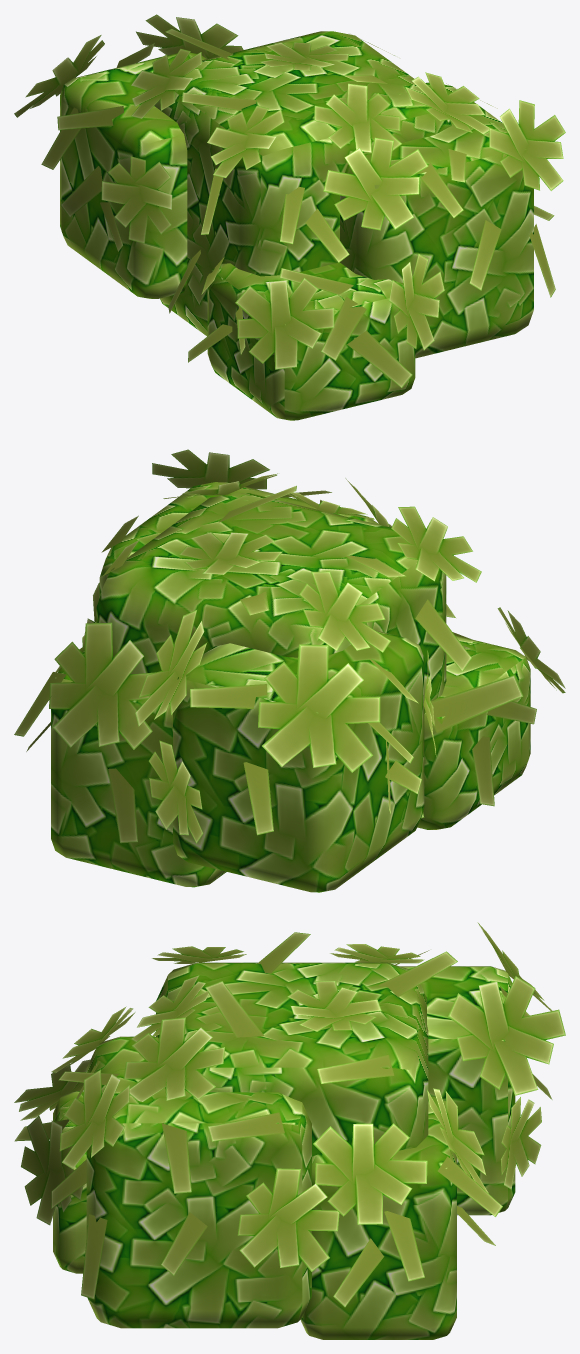
Rendered from SM_Bush_01_B.fbx.
3 renders of one model, top to bottom at view 1: azimuth 30°, elevation 25°; view 2: azimuth 150°, elevation 25°; view 3: azimuth 270°, elevation 25°, orthographic. The views are drawn at different scales.
Visible parts, largest first — view 1: polySurface625; view 2: polySurface625; view 3: polySurface625.
Part boxes in pixels (bbox=[...]): polySurface625: bbox=[14, 14, 565, 420]; polySurface625: bbox=[14, 449, 565, 892]; polySurface625: bbox=[14, 922, 565, 1339].
Size of the model in its own units: 65.31 by 44.35 by 72.77.
